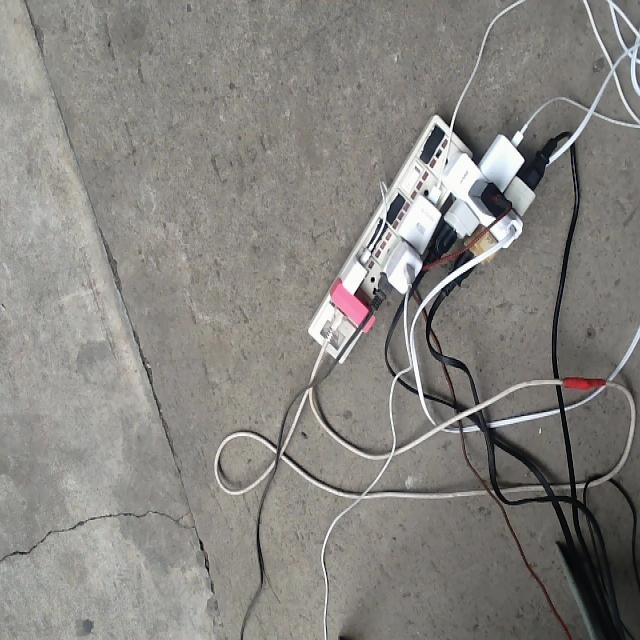-: (307, 110, 566, 362)
